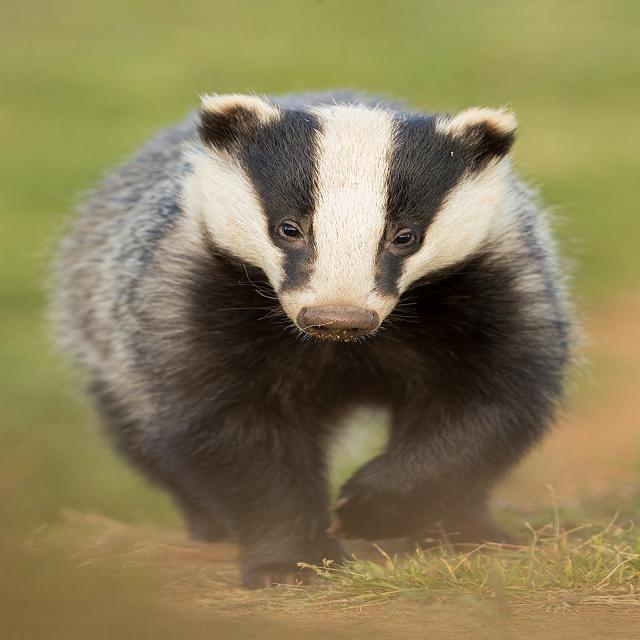Badger: (44, 83, 580, 588)
